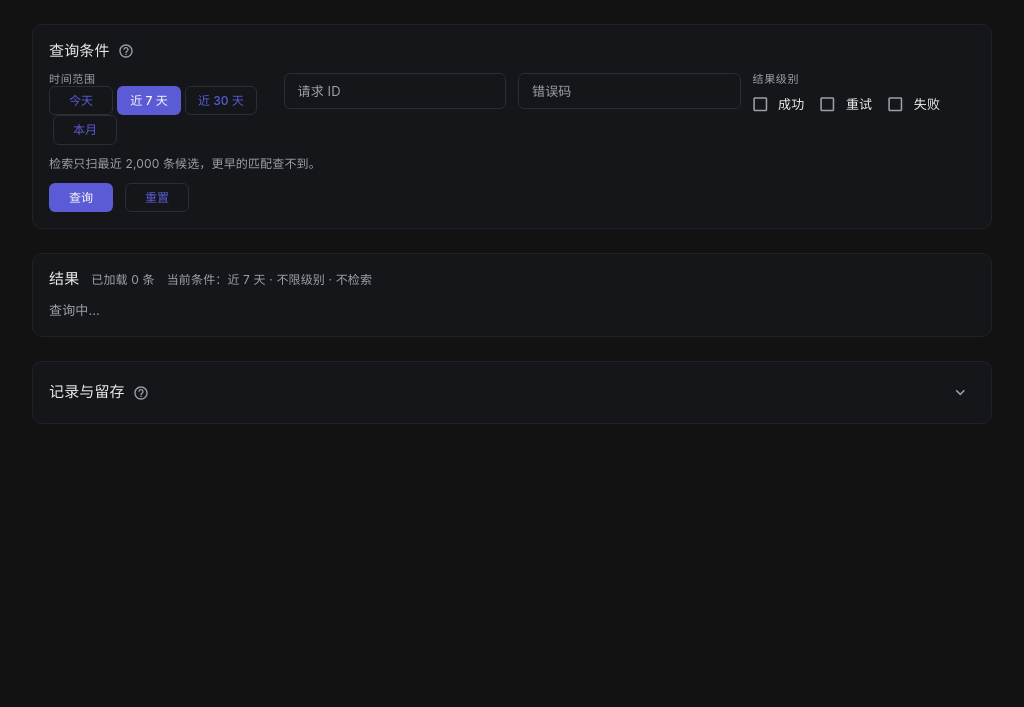
[task-23 B] 导出诊断包：路径不是前端编的，落盘以后端回执为准 › 没有回执（防御分支：后端返回空 path，或退回老 void 形态）：只说「已请求」，并明说不能确认落盘
The width and height of the screenshot is (1024, 707).
Click the button with test id "logs-advanced-toggle" at (961, 393), box [946,378,975,407]
(page scrolled)
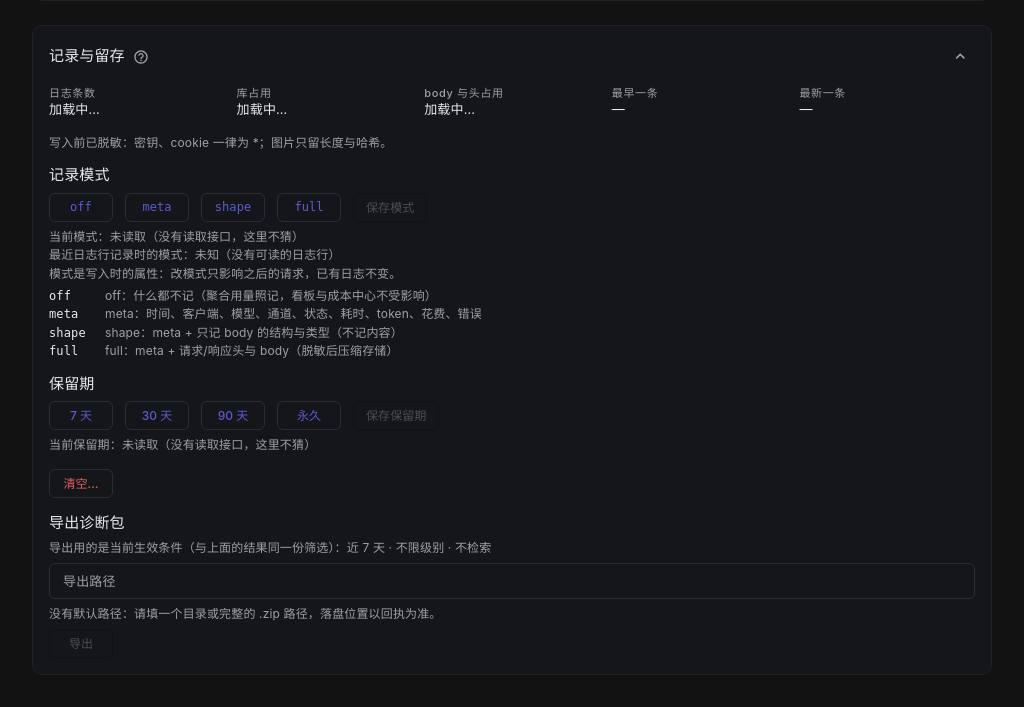
Type "D:\\out" into the field at (512, 581), box [49,563,975,599]
(page scrolled)
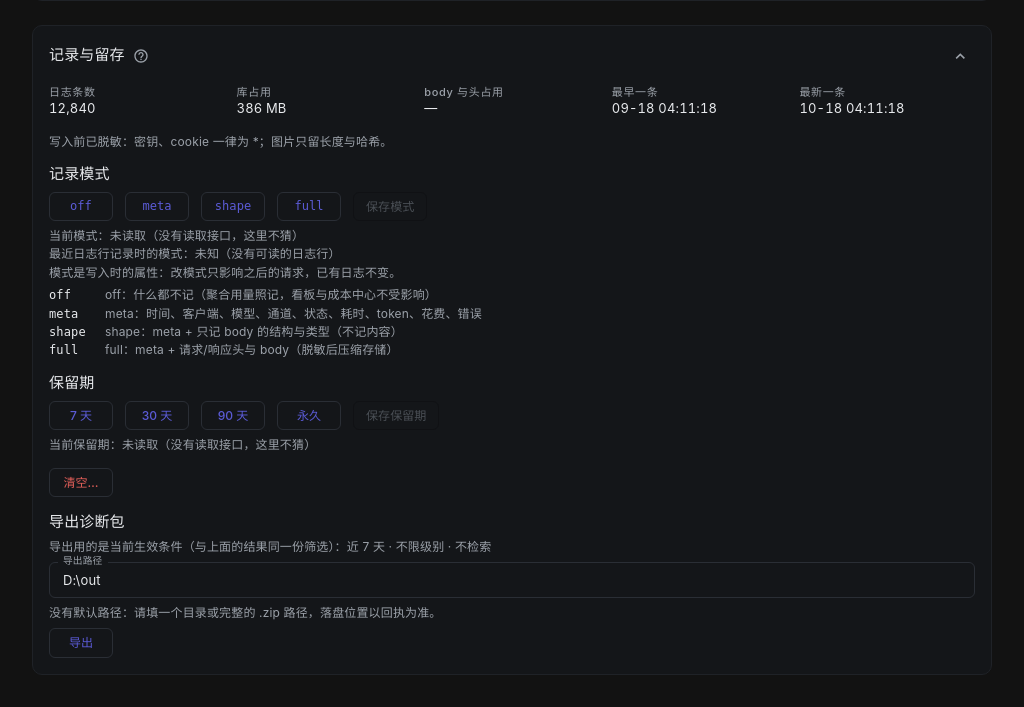
Click the button with test id "logs-export-run" at (81, 643), box [49,628,113,658]
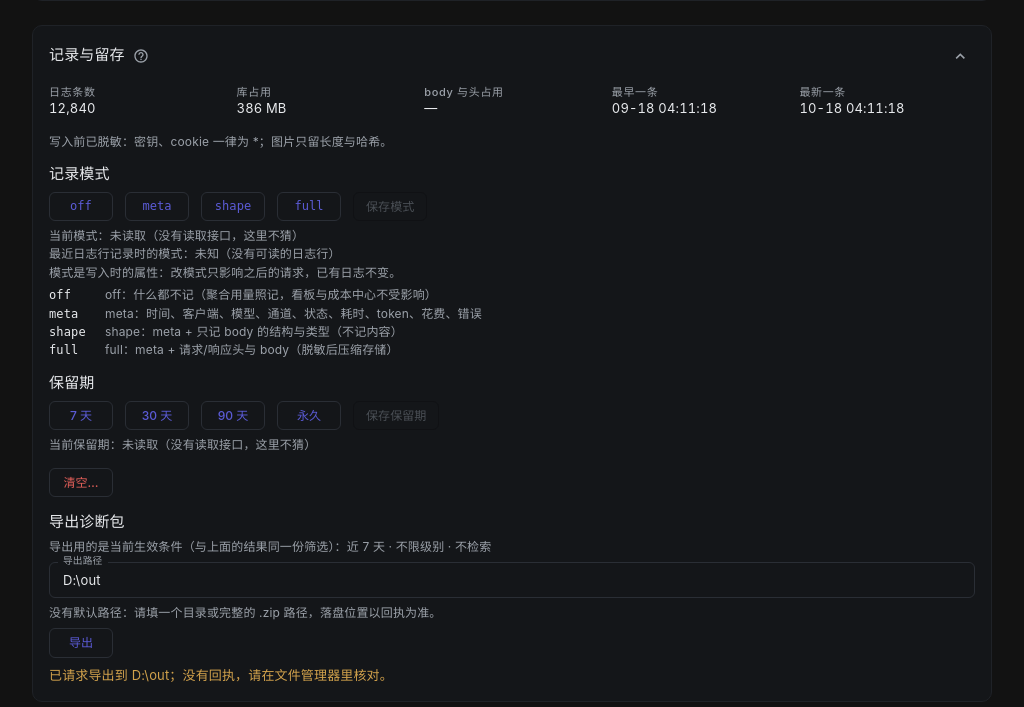
Expected: the text with test id "logs-export-requested" shows "没有回执", [49,667,393,683]
